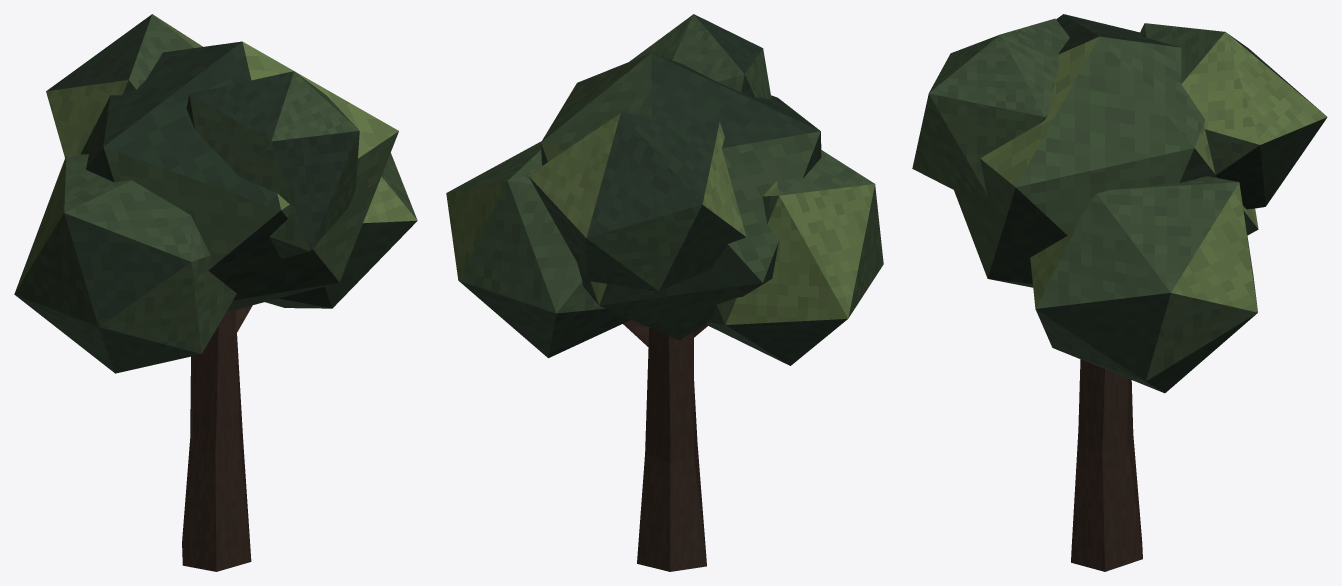
Rendered from tree_oak.glb.
The picture shows the model from 3 angles, left to right: view 1: azimuth 30°, elevation 25°; view 2: azimuth 150°, elevation 25°; view 3: azimuth 270°, elevation 25°; orthographic projection. The views are drawn at different scales.
Visible parts, largest first — view 1: tree_oak; view 2: tree_oak; view 3: tree_oak.
Part boxes in pixels (x1=…): tree_oak: x1=14, y1=14, x2=417, y2=571; tree_oak: x1=446, y1=14, x2=883, y2=571; tree_oak: x1=912, y1=14, x2=1327, y2=571.
Bounding box in the file's own units: 3.73 × 4.71 × 3.31.
1 material, 1 textured.
